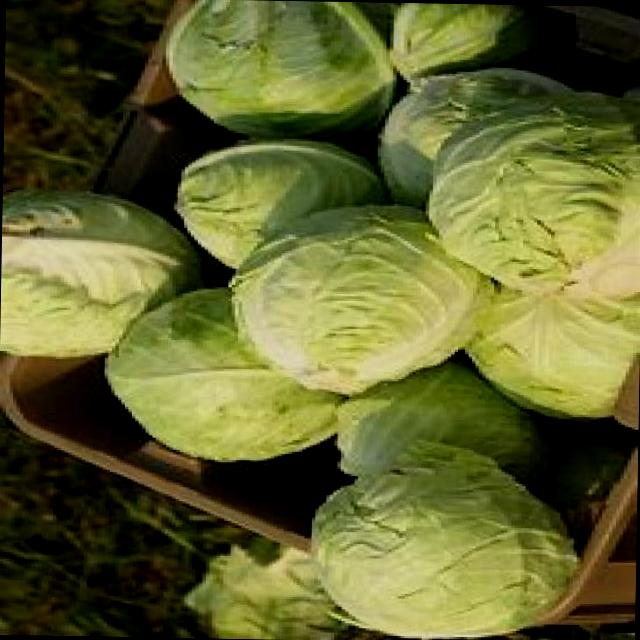cabbage: (303, 447, 573, 638), (226, 214, 494, 402), (411, 94, 640, 288), (153, 0, 391, 135), (0, 193, 186, 361)
